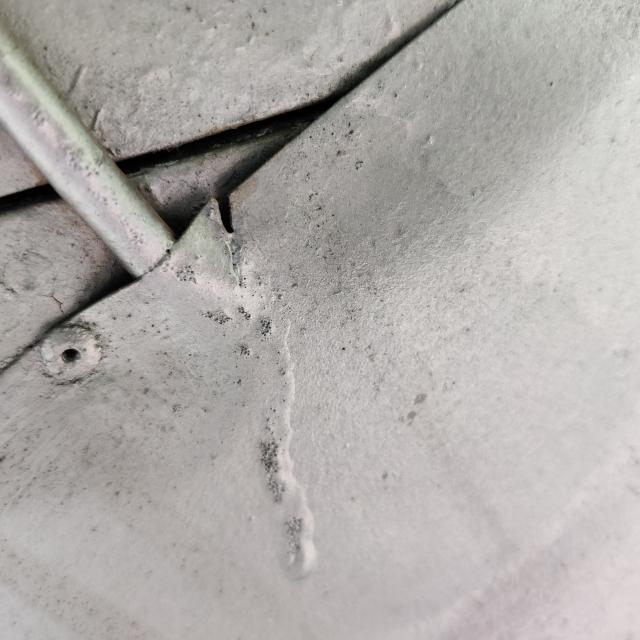crack: (196, 177, 256, 250)
